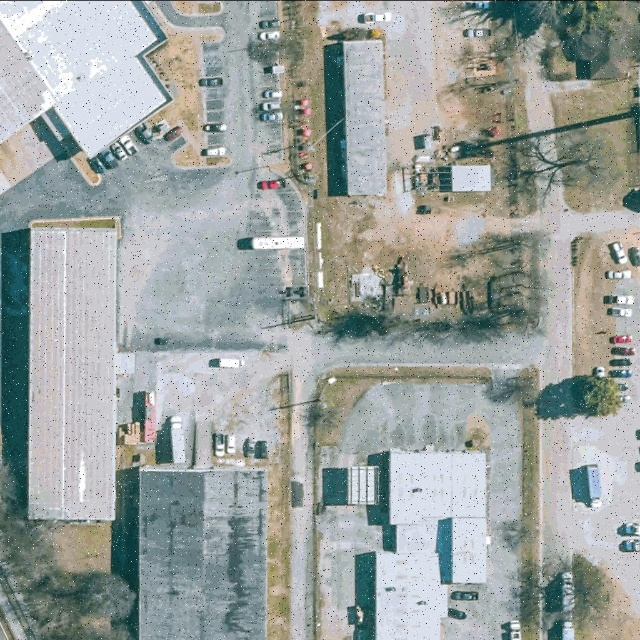vegetation: (529, 1, 626, 36), (80, 572, 138, 622), (574, 377, 623, 419)
